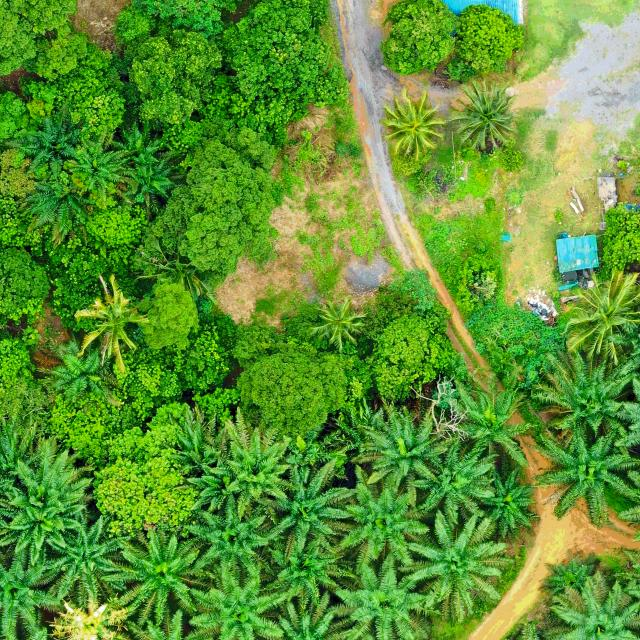Tree: (156, 125, 277, 274), (223, 0, 341, 139), (94, 401, 202, 527), (0, 439, 100, 565), (528, 420, 640, 529), (403, 508, 511, 621), (236, 344, 359, 441), (331, 460, 432, 578), (349, 394, 450, 508), (24, 33, 130, 140), (349, 299, 457, 404), (528, 346, 640, 442), (257, 451, 356, 557), (117, 528, 216, 631), (208, 405, 292, 525), (333, 547, 441, 640), (122, 32, 224, 126), (179, 489, 278, 582), (46, 514, 138, 614), (446, 370, 535, 470), (186, 559, 291, 640), (406, 438, 502, 526), (259, 530, 362, 609), (560, 269, 640, 368), (539, 569, 640, 640), (0, 536, 70, 638), (76, 277, 150, 363), (380, 0, 458, 77), (0, 0, 77, 75), (455, 1, 526, 76), (0, 236, 52, 338), (133, 278, 200, 352), (449, 81, 518, 152), (381, 88, 448, 159), (265, 593, 366, 640), (47, 343, 122, 406), (165, 401, 224, 480), (116, 147, 188, 211), (62, 137, 126, 206), (477, 468, 539, 538), (113, 608, 215, 640), (309, 298, 368, 352), (597, 200, 640, 270)
